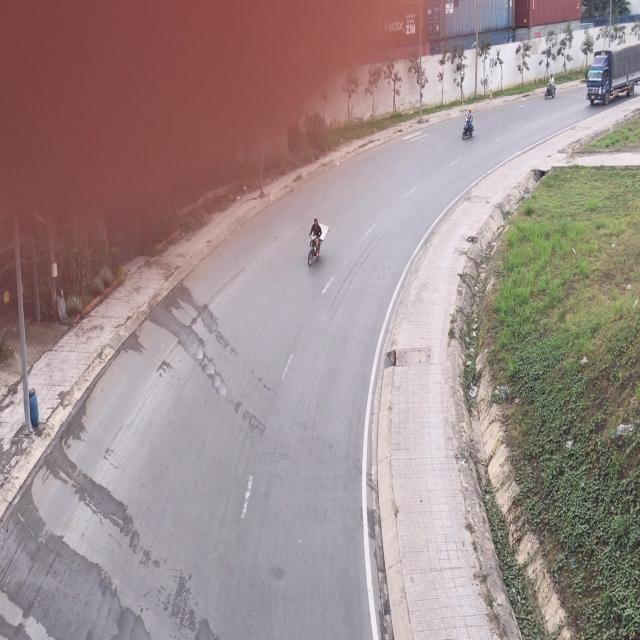motorbike: (303, 216, 323, 270), (543, 73, 558, 102), (461, 111, 475, 141)
truck: (588, 48, 640, 110)
